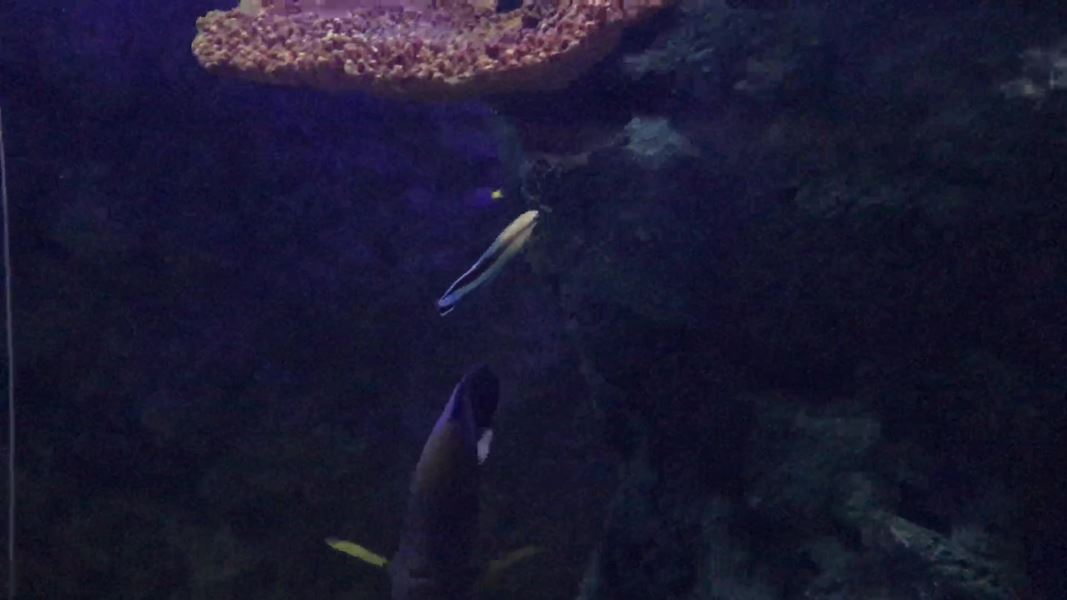Bluesteak cleaner wrasse: (427, 203, 549, 330)
